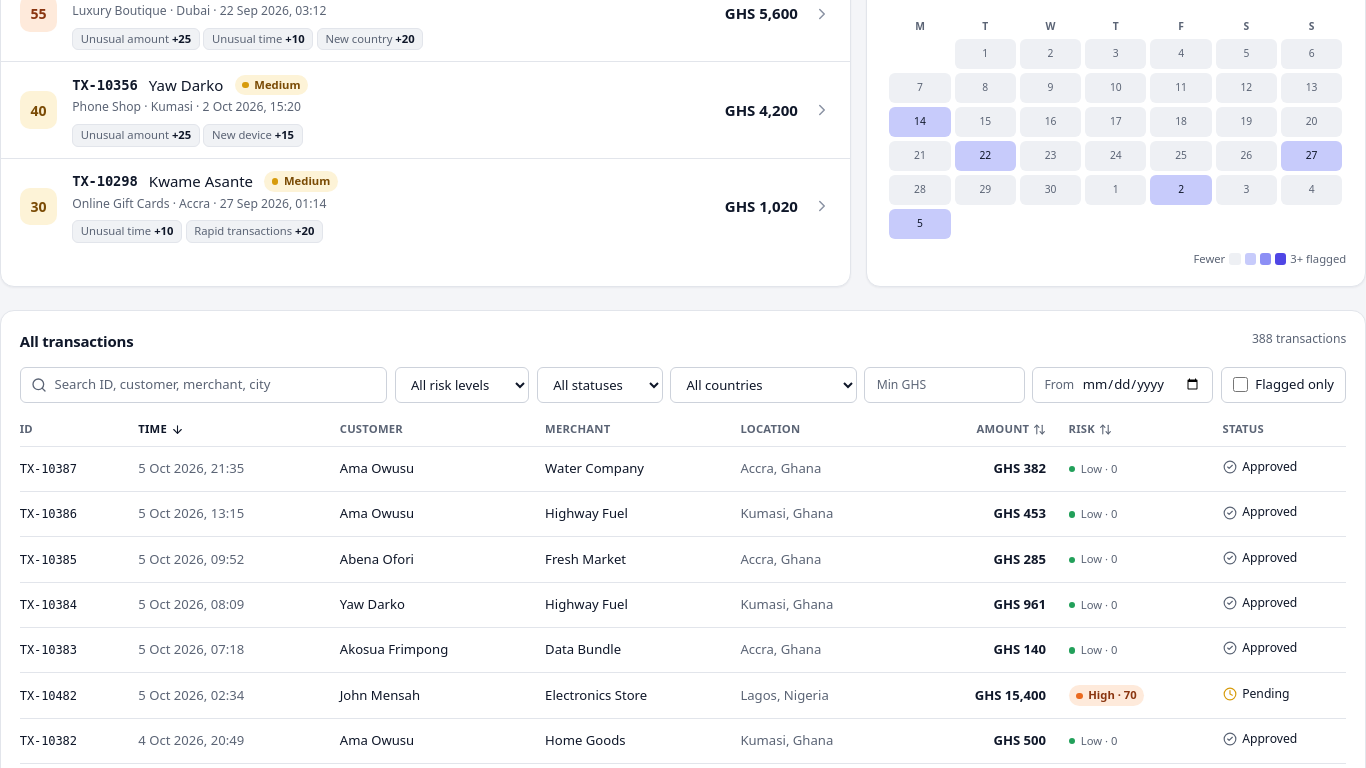
Dashboard › filters by risk level and keeps the filter in the URL
(page scrolled)
Select "Critical" in the 1st dropdown named "Risk level". click: (462,385)
box: [395, 367, 530, 403]
(page scrolled)
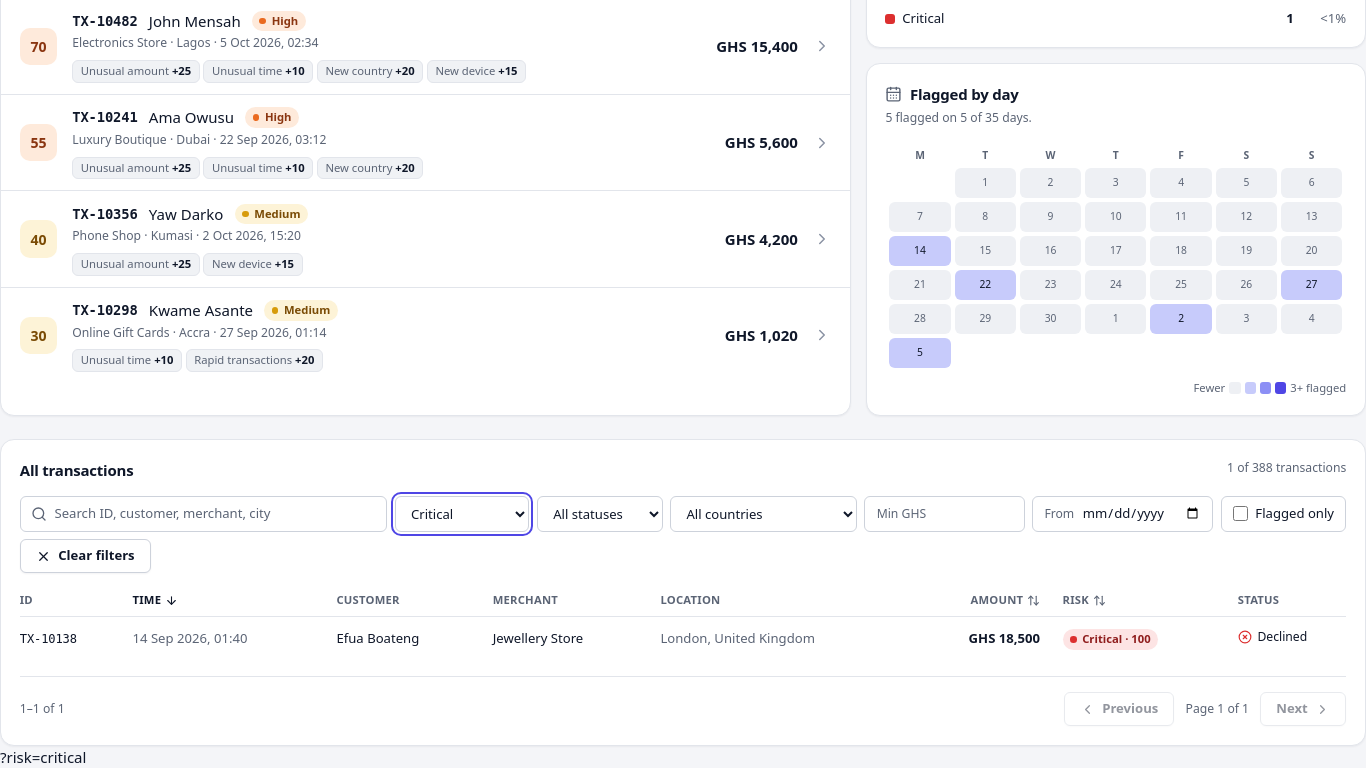
Check: the text with test id "location" reads "?risk=critical", box [0, 747, 86, 767]
Check: the message shows "1 of", box [1227, 458, 1346, 476]
Check: the row that starts with "TX-10138" shows "Critical", box [1082, 631, 1122, 646]
